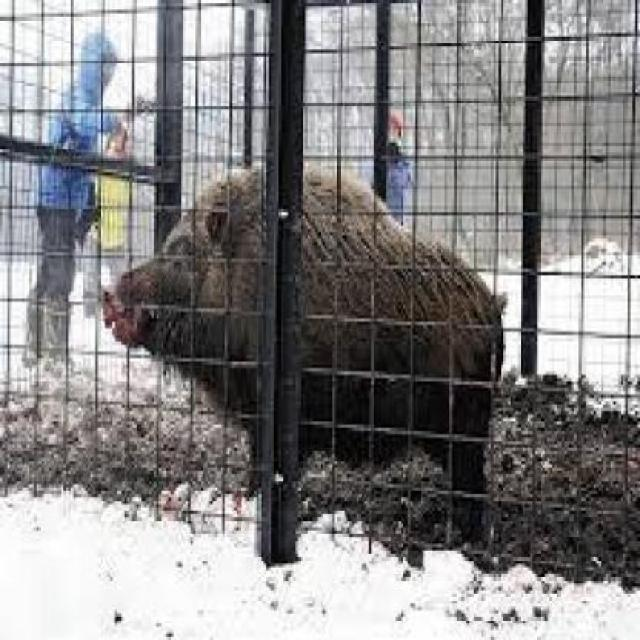wildboar: (98, 160, 512, 518)
